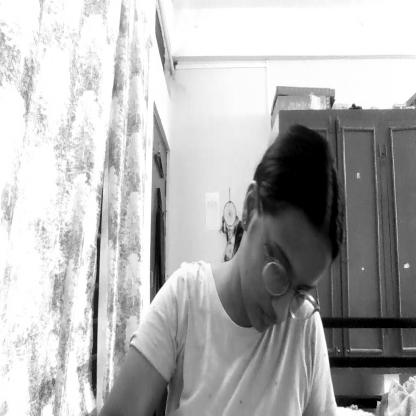Distracted: (246, 162, 333, 345)
